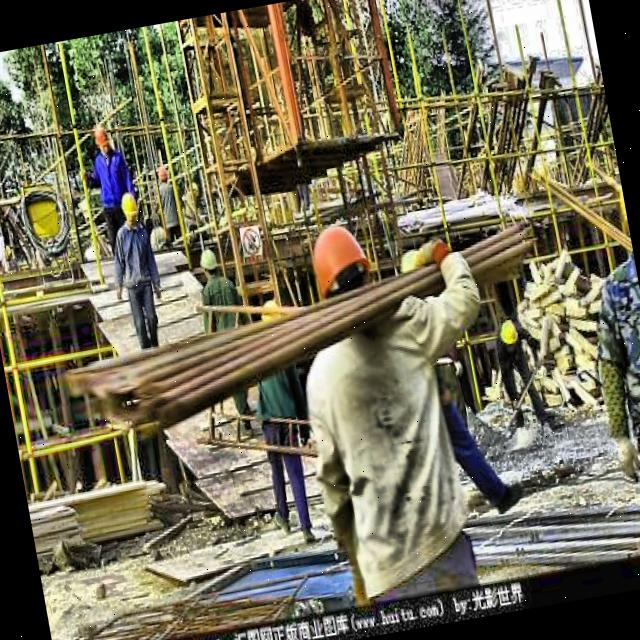helmet: (297, 210, 383, 324), (194, 242, 221, 286), (90, 120, 114, 159), (116, 188, 140, 226), (153, 159, 172, 185)
